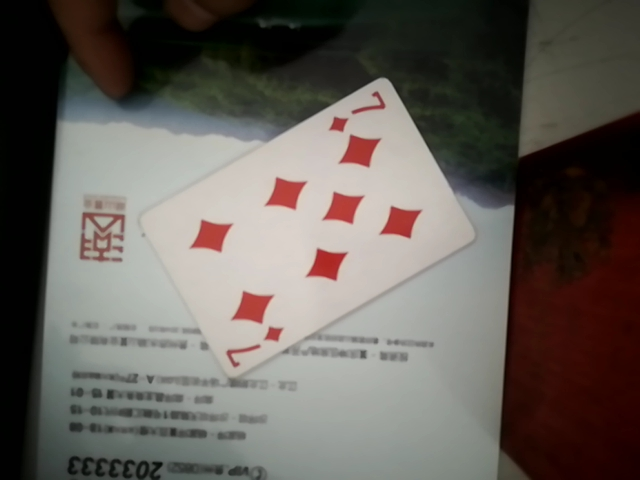fk 7: (123, 75, 475, 373)
